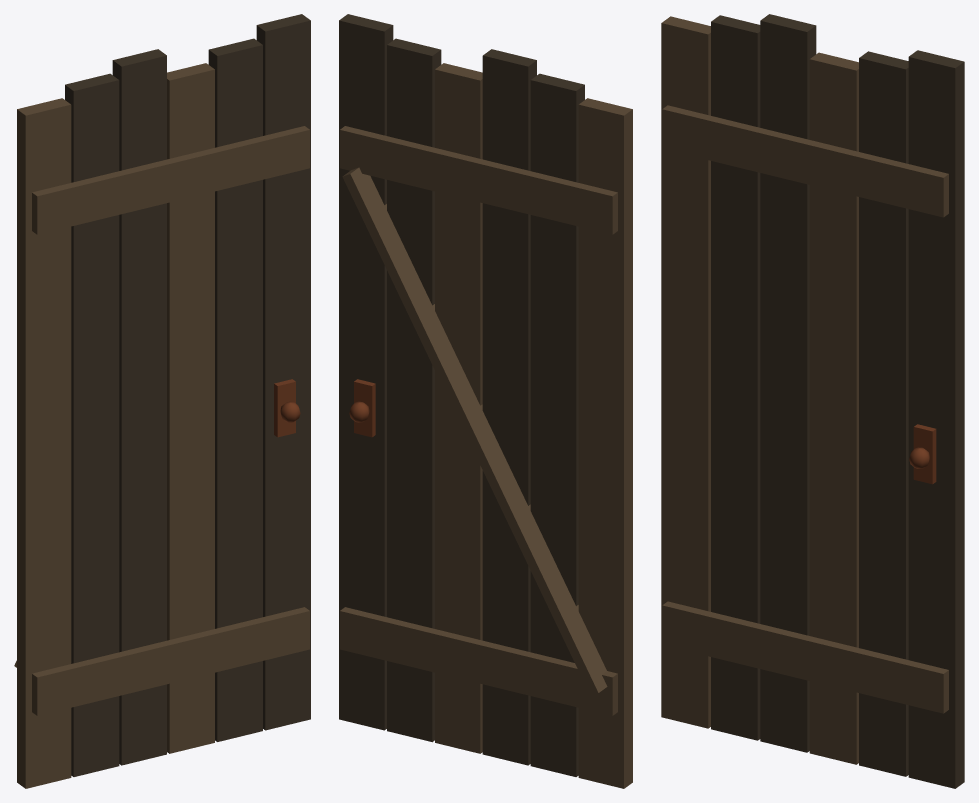
Rendered from SM_Door_abandoned_95x215.fbx.
3 renders of one model, left to right at view 1: azimuth 30°, elevation 25°; view 2: azimuth 150°, elevation 25°; view 3: azimuth 330°, elevation 25°, orthographic. The views are drawn at different scales.
Visible parts, largest first — view 1: SM_Door_abandoned_95x215; view 2: SM_Door_abandoned_95x215; view 3: SM_Door_abandoned_95x215.
Part boxes in pixels (x1=…): SM_Door_abandoned_95x215: x1=14, y1=14, x2=310, y2=788; SM_Door_abandoned_95x215: x1=339, y1=14, x2=632, y2=788; SM_Door_abandoned_95x215: x1=661, y1=14, x2=964, y2=788.
Bounding box in the file's own units: 0.93 × 2.18 × 0.2.
